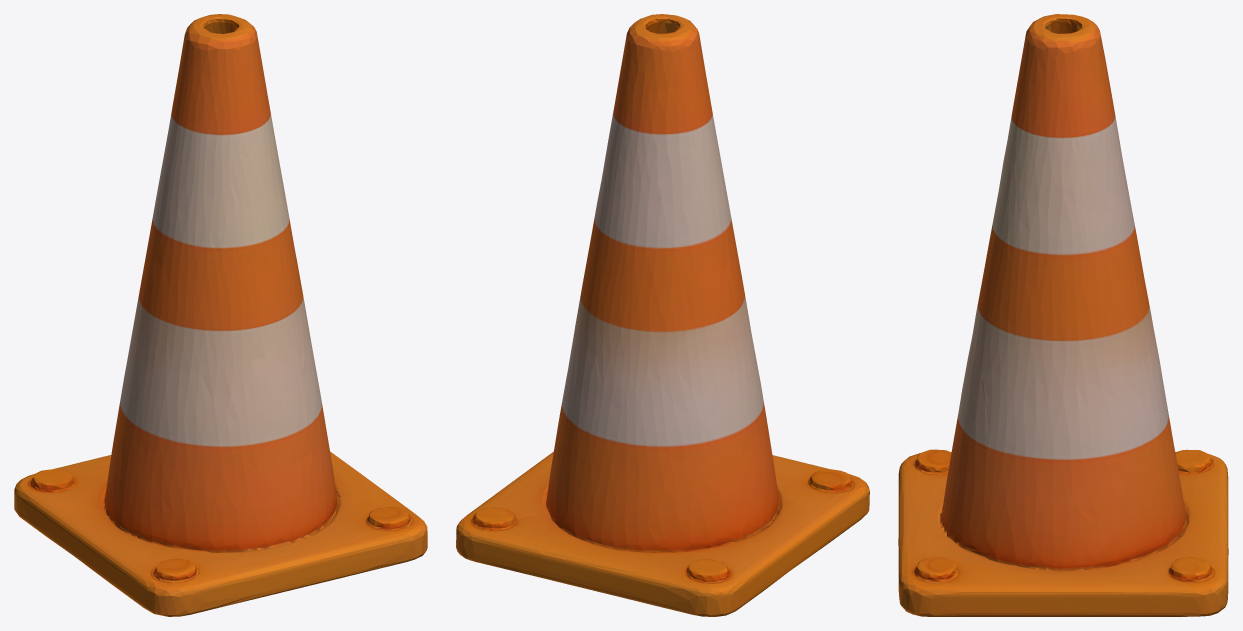
The picture shows the model from 3 angles, left to right: view 1: azimuth 30°, elevation 25°; view 2: azimuth 150°, elevation 25°; view 3: azimuth 270°, elevation 25°; orthographic projection. The views are drawn at different scales.
Parts seen in each view (by area): view 1: 0_1234_50_5.0_256_8000.obj; view 2: 0_1234_50_5.0_256_8000.obj; view 3: 0_1234_50_5.0_256_8000.obj.
Boxes of the visible parts, x1,y1,x2,y2 form: 0_1234_50_5.0_256_8000.obj: (14,14,427,616); 0_1234_50_5.0_256_8000.obj: (456,14,869,616); 0_1234_50_5.0_256_8000.obj: (898,14,1228,616).
Size of the model in its own units: 1.14 by 1.99 by 1.14.
Materials: 1 (1 with a texture image).
